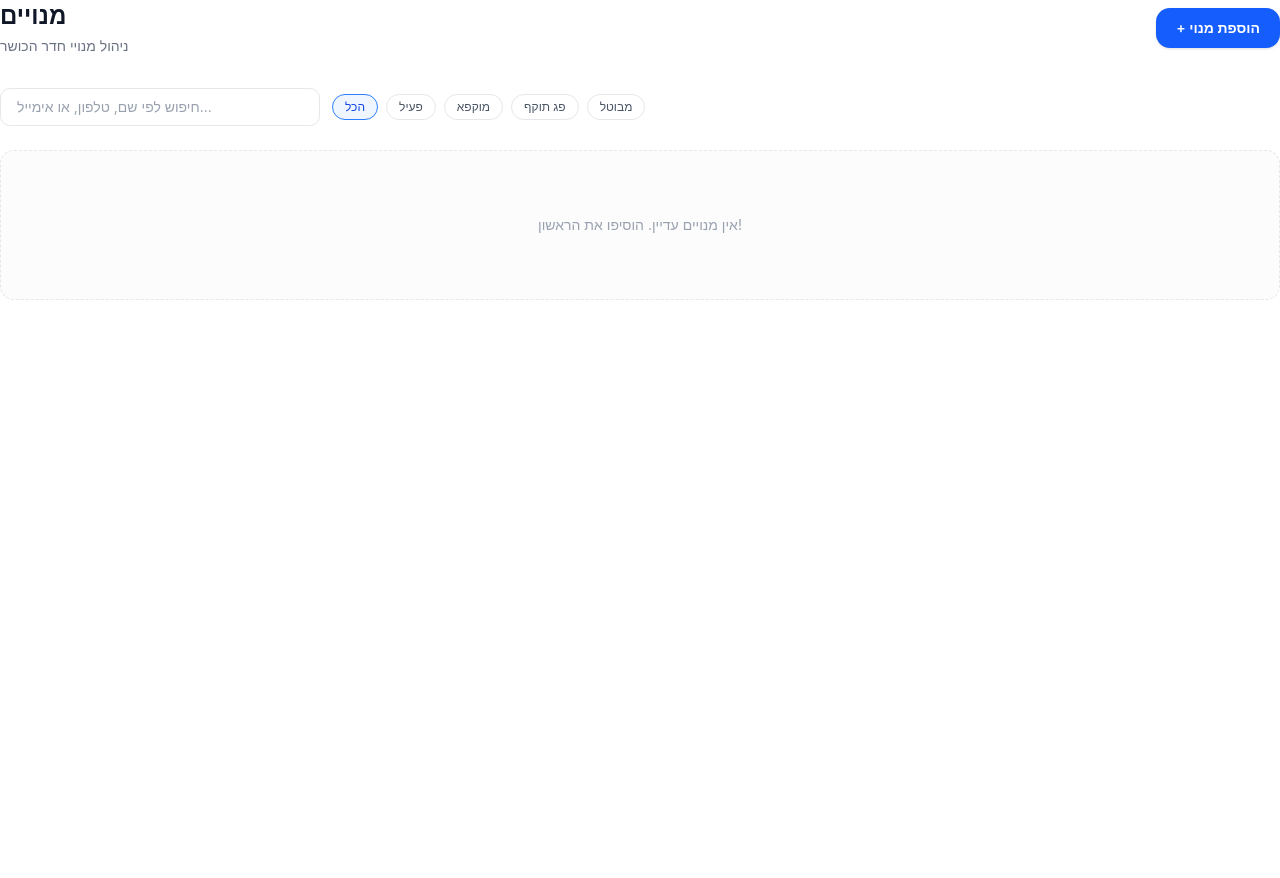
MemberListPage › opens create form when + button is clicked
This screenshot has width=1280, height=878.
Click the button "+ הוספת מנוי" at [1218, 28], box [1156,8,1279,48]
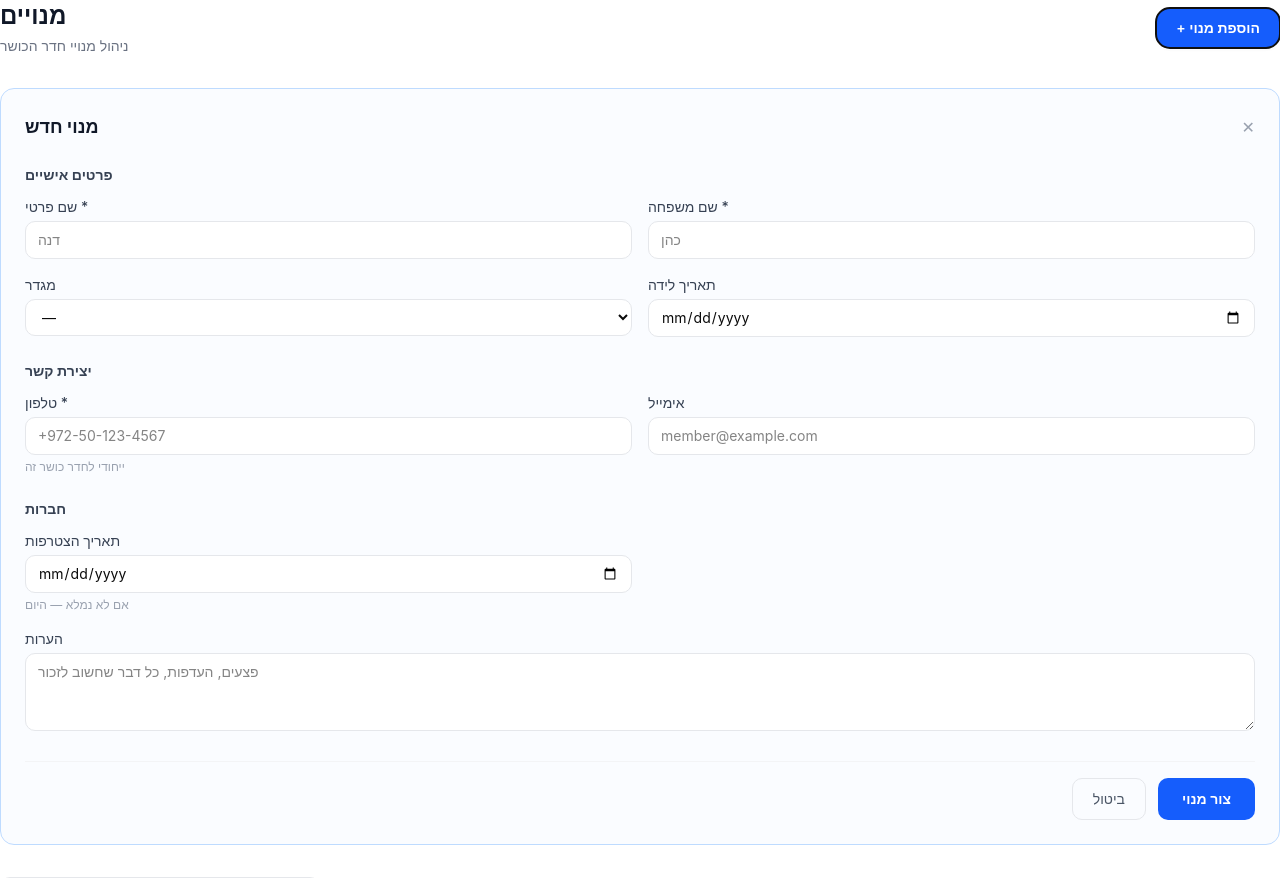
expect the heading "מנוי חדש" is shown: met, box [25,113,98,141]
expect the button "צור מנוי" is shown: met, box [1158,778,1255,820]
